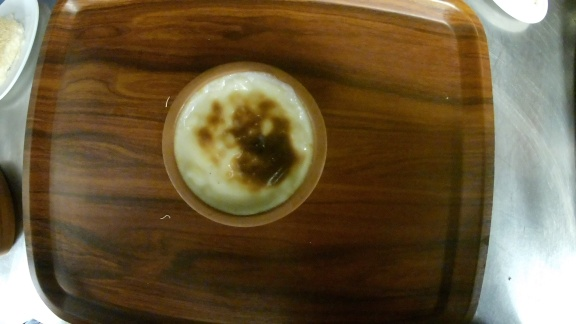sutlac: (162, 61, 328, 227)
